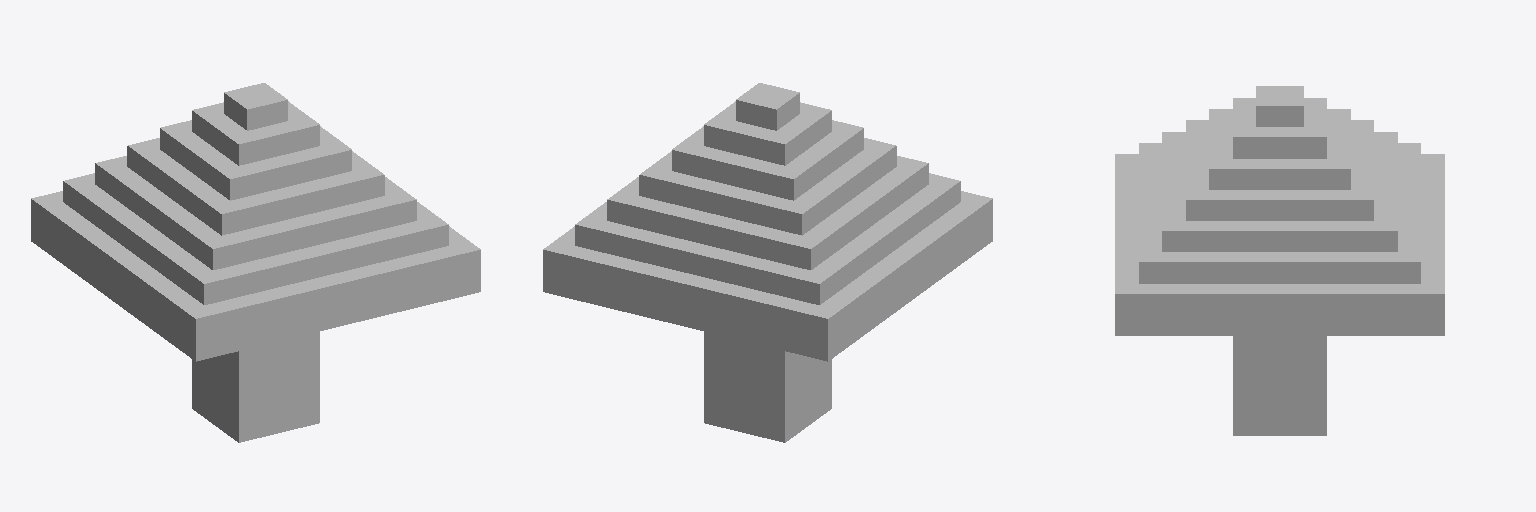
File: grzyb 3.obj
The picture shows the model from 3 angles: view 1: azimuth 30°, elevation 25°; view 2: azimuth 150°, elevation 25°; view 3: azimuth 270°, elevation 25°; orthographic projection.
Visible parts, largest first — view 1: object 1; view 2: object 1; view 3: object 1.
Boxes of the visible parts, x1=… form: object 1: x1=31, y1=83, x2=480, y2=442; object 1: x1=543, y1=83, x2=992, y2=442; object 1: x1=1115, y1=86, x2=1444, y2=435.
Bounding box in the file's own units: 1.4 × 1.5 × 1.4.